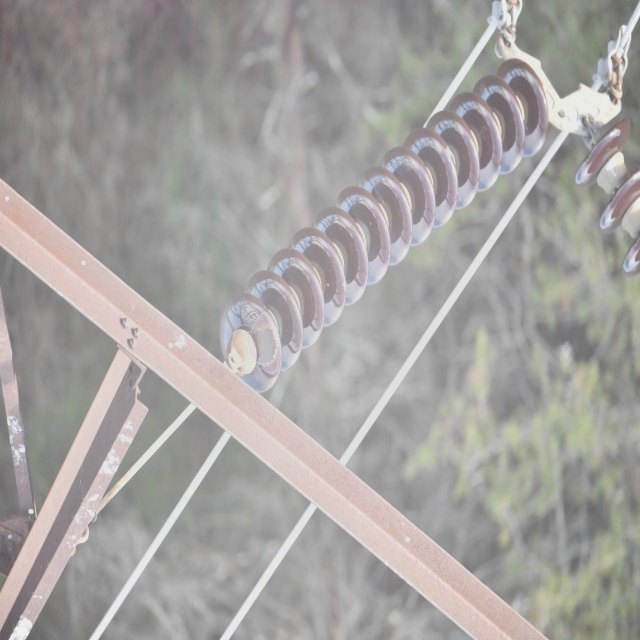insulator: (217, 60, 548, 395), (578, 118, 640, 270)
